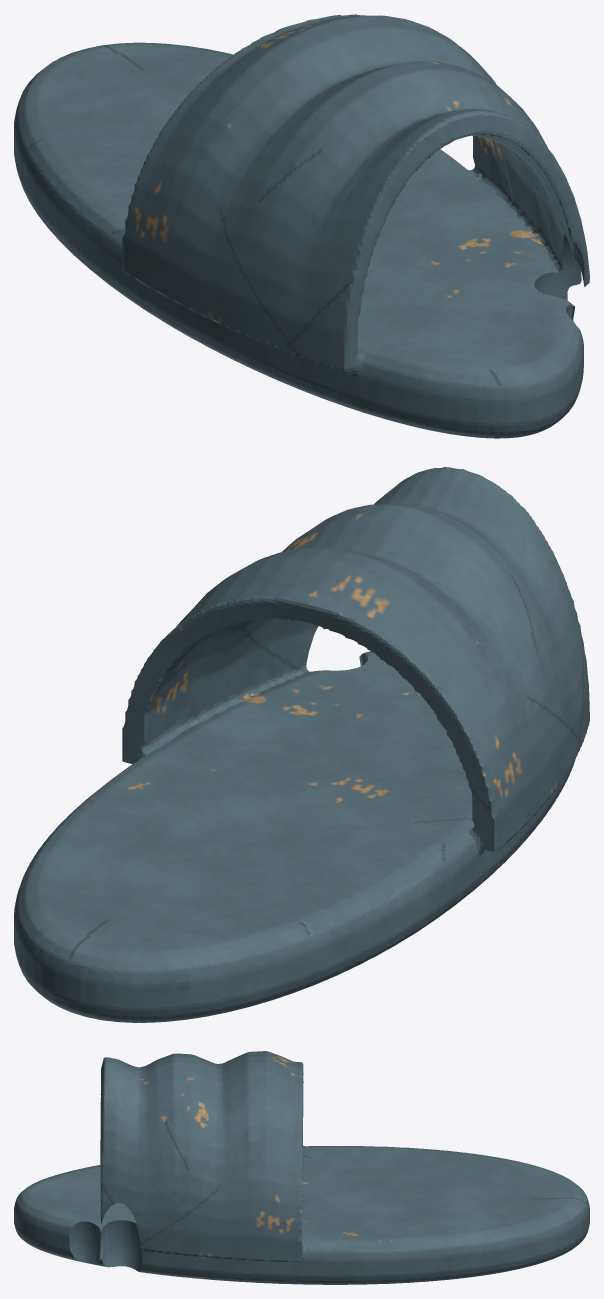
Rendered from C3_被咬过的拖鞋_分享包版.glb.
The picture shows the model from 3 angles, top to bottom: view 1: azimuth 30°, elevation 25°; view 2: azimuth 150°, elevation 25°; view 3: azimuth 270°, elevation 25°; orthographic projection. The views are drawn at different scales.
Parts seen in each view (by area): view 1: Worn rubber sole; view 2: Worn rubber sole; view 3: Worn rubber sole.
Part boxes in pixels (x1,y1,x2,y2): Worn rubber sole: (14, 14, 589, 438); Worn rubber sole: (14, 467, 589, 1022); Worn rubber sole: (14, 1051, 589, 1284).
Bounding box in the file's own units: 0.1424 × 0.1006 × 0.3.
Materials: 1 (1 with a texture image).
